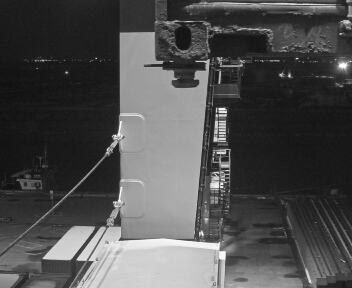twist_lock_1: (152, 51, 210, 94)
